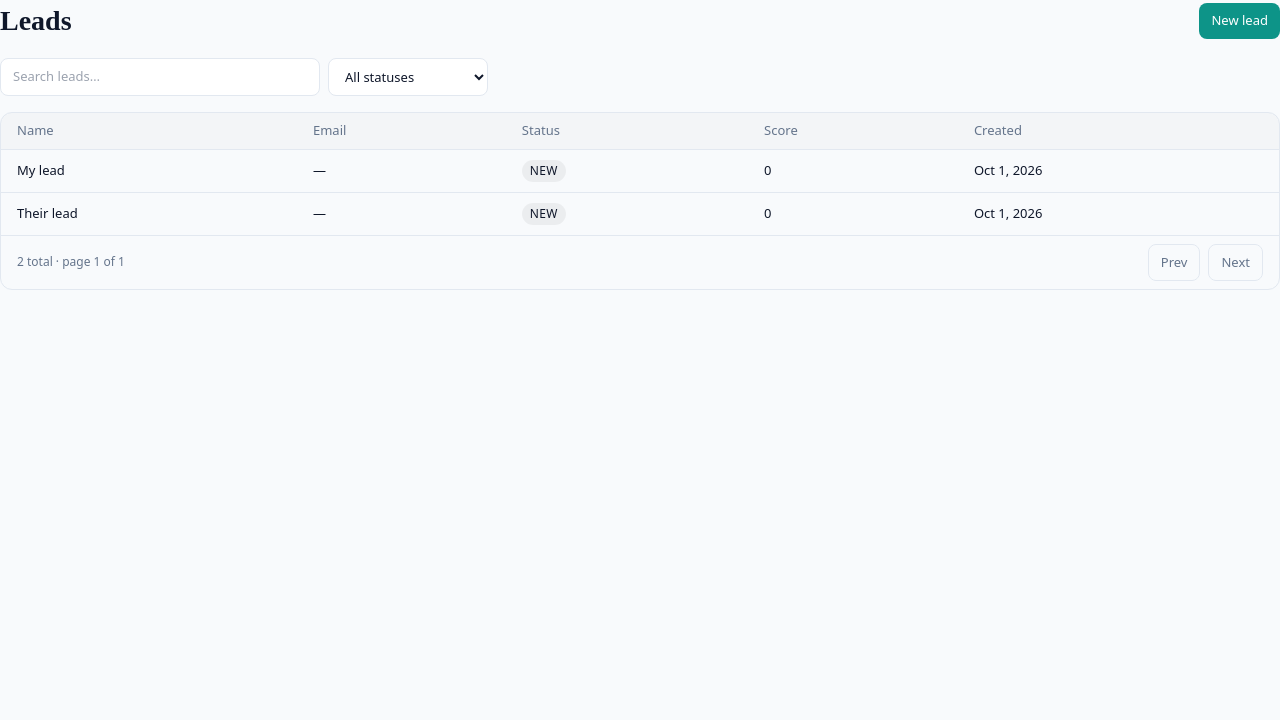
Scenario: lead edit dialog › is editable for a manager on anyone's record
Click the text "Their lead". click: x=47, y=213
box: [1, 192, 297, 234]
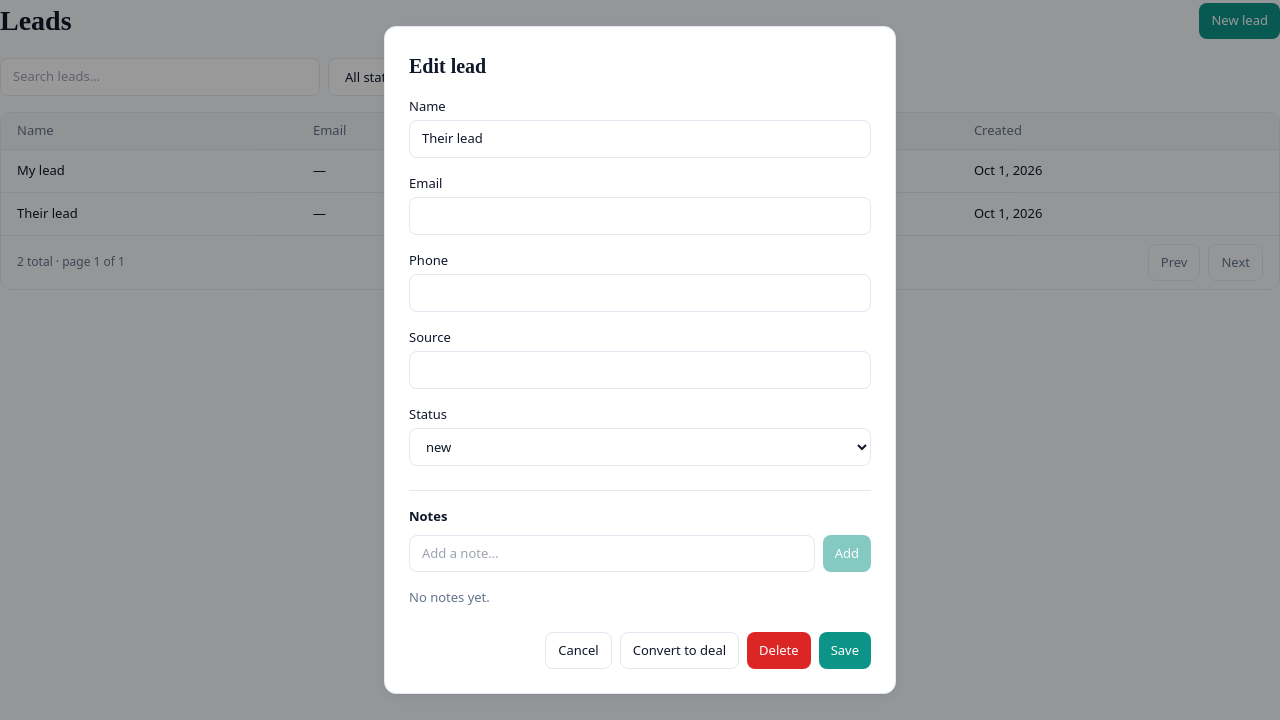
expect the button "Save" is enabled: met, box [819, 632, 871, 669]
